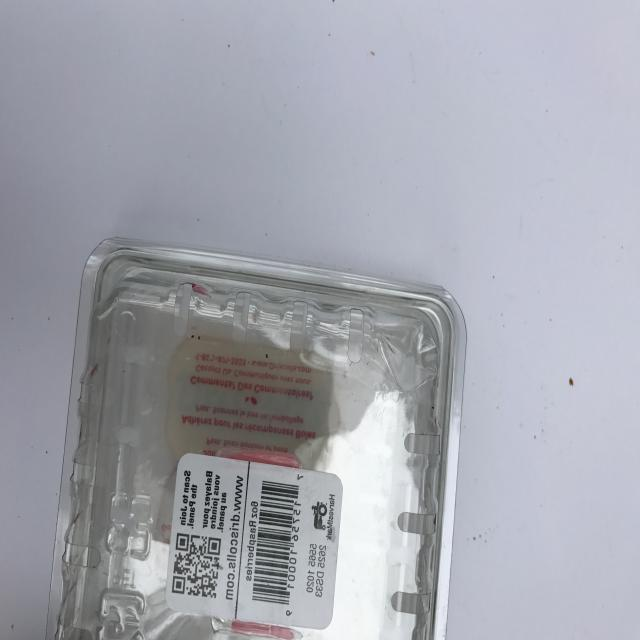plastic: (51, 238, 466, 640)
